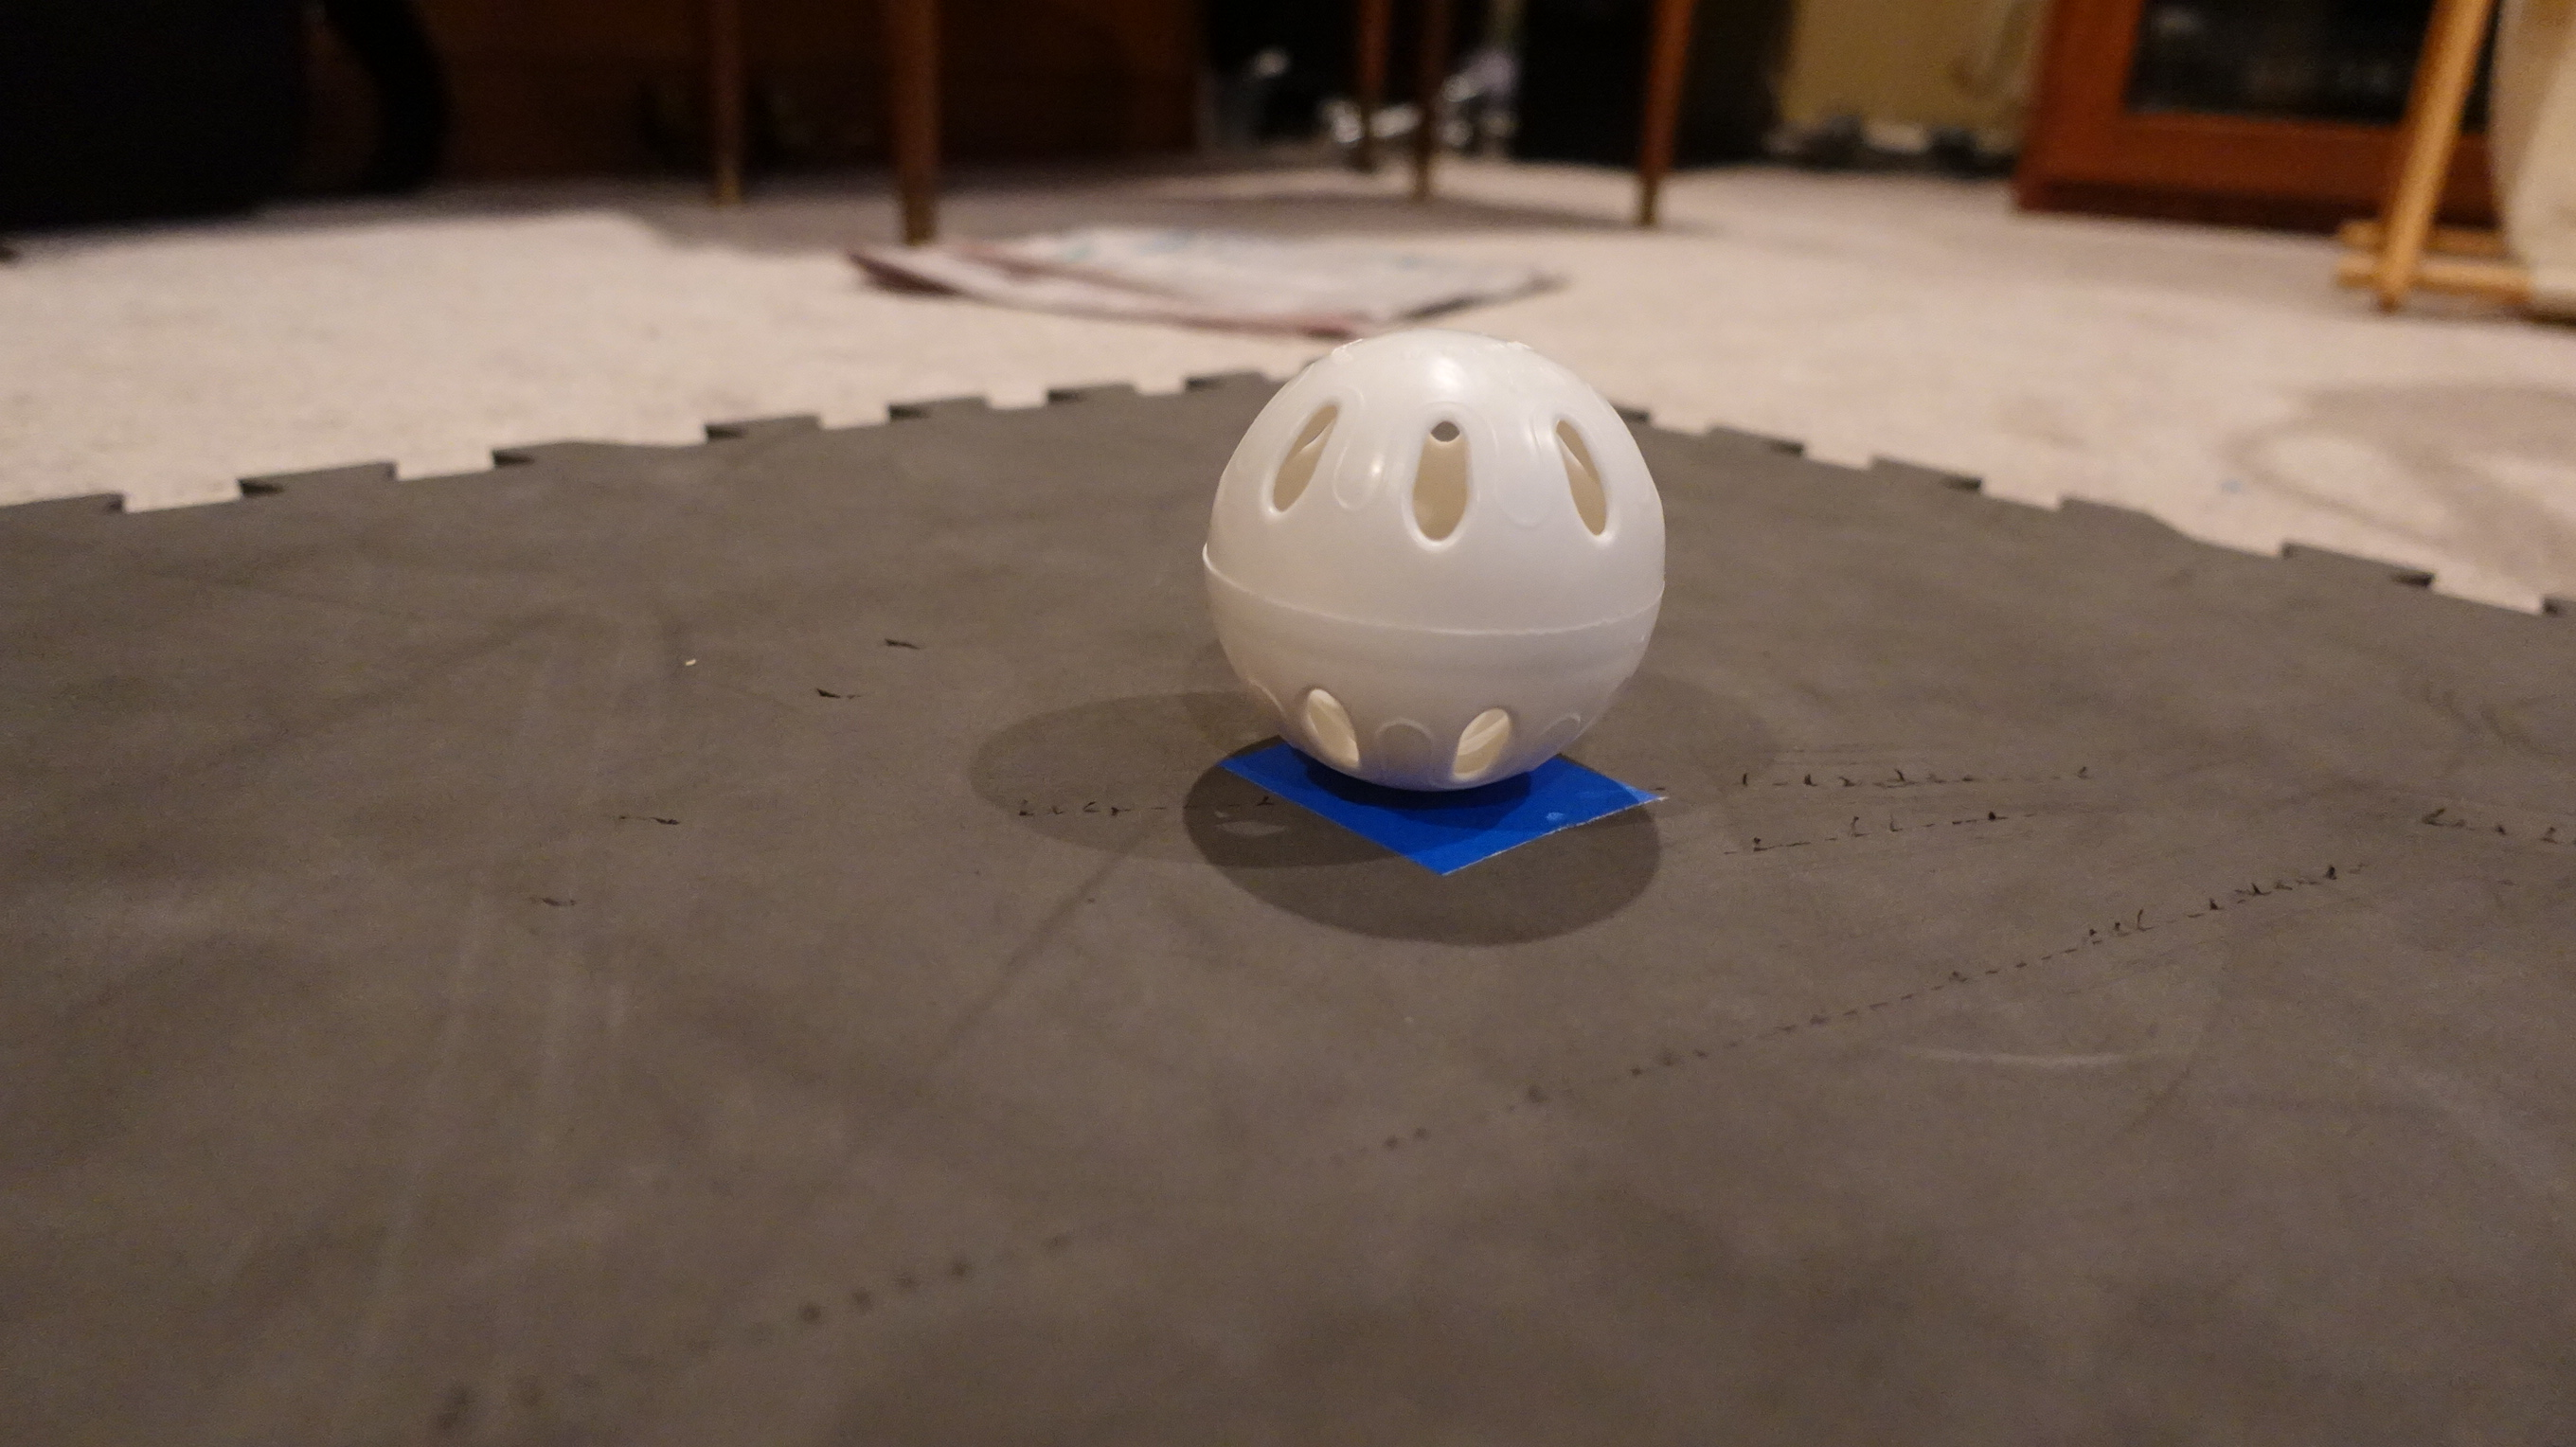silver: (1154, 313, 1709, 812)
